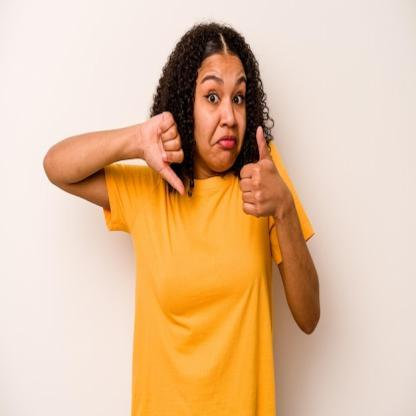thumb_down: (140, 105, 190, 198)
thumb_up: (238, 123, 286, 226)
